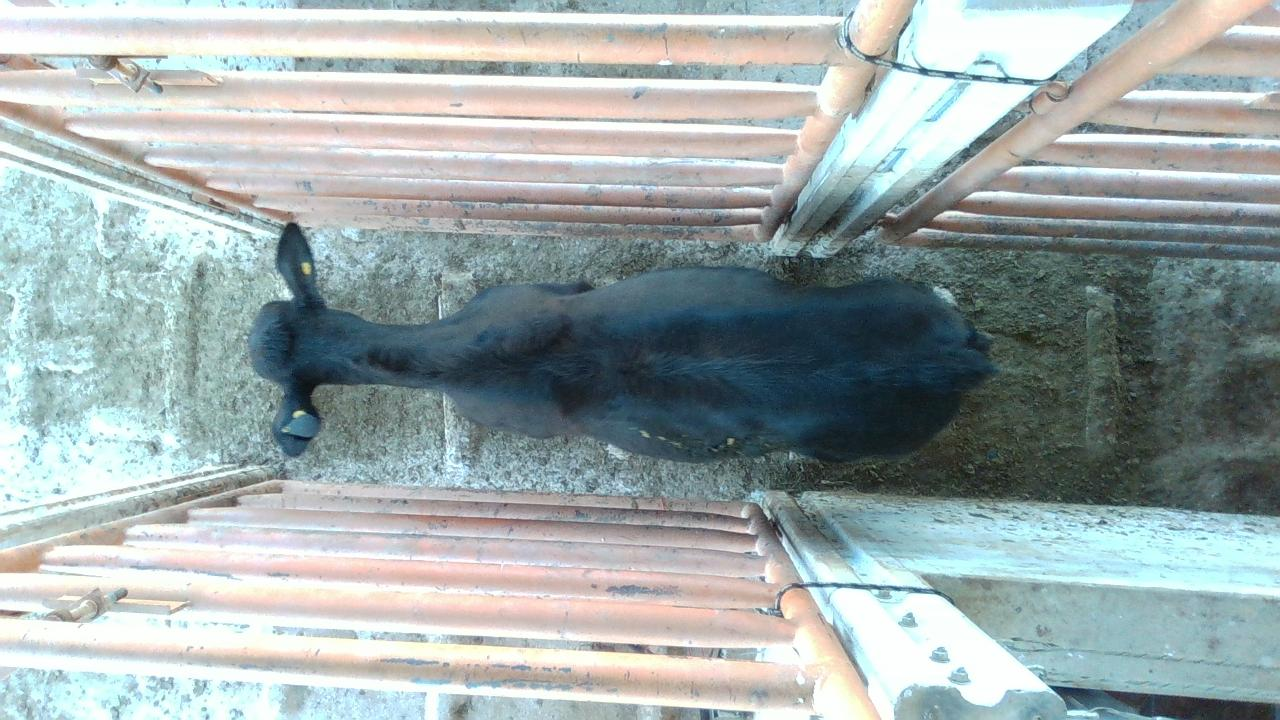cattle: (246, 219, 997, 464)
